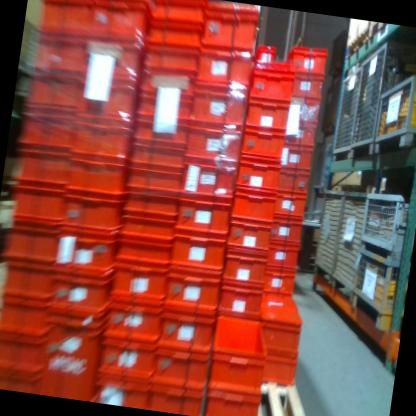small_load_carrier: (39, 305, 106, 398), (208, 307, 270, 396), (196, 0, 263, 53), (74, 76, 142, 128), (59, 192, 125, 243), (253, 289, 308, 350), (107, 262, 170, 312), (96, 336, 163, 383), (24, 70, 81, 124), (191, 44, 253, 93), (70, 120, 136, 164), (177, 158, 237, 206), (161, 272, 221, 319), (57, 234, 119, 279), (8, 184, 66, 231), (170, 230, 229, 276), (51, 270, 114, 313), (63, 160, 129, 200), (103, 304, 167, 345), (88, 3, 146, 48), (2, 223, 60, 268), (85, 40, 142, 85), (191, 85, 247, 130), (154, 344, 210, 389), (244, 61, 297, 108), (32, 32, 87, 76), (17, 115, 76, 156), (186, 123, 244, 164), (0, 261, 59, 301), (174, 198, 233, 237), (12, 148, 69, 188), (0, 330, 46, 379), (138, 65, 201, 100), (157, 313, 215, 351), (39, 0, 94, 40), (0, 296, 50, 338), (93, 374, 154, 408), (132, 114, 190, 149), (257, 349, 302, 394), (124, 168, 184, 201), (130, 142, 187, 176), (140, 45, 203, 75), (118, 213, 178, 244), (149, 382, 206, 414), (135, 92, 193, 123), (144, 21, 202, 52), (235, 159, 281, 198), (223, 247, 268, 286), (216, 282, 260, 321), (115, 237, 174, 266), (240, 127, 286, 164), (121, 193, 181, 221), (149, 0, 206, 29), (204, 389, 263, 416), (231, 192, 276, 227), (242, 102, 289, 133), (228, 221, 271, 253), (286, 43, 328, 74), (264, 268, 296, 307), (279, 139, 314, 174), (283, 69, 322, 99), (269, 239, 298, 270), (272, 194, 304, 222), (277, 169, 310, 195), (288, 96, 319, 123), (285, 119, 317, 144), (0, 374, 41, 393), (270, 218, 300, 241), (94, 0, 152, 11)
stillage: (348, 35, 416, 169), (324, 189, 367, 311), (347, 241, 404, 331), (371, 66, 416, 160), (328, 59, 365, 166), (357, 187, 411, 259), (307, 186, 344, 289)
